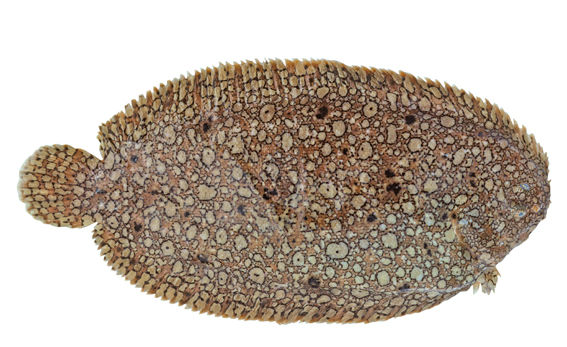fish: (17, 57, 551, 324)
